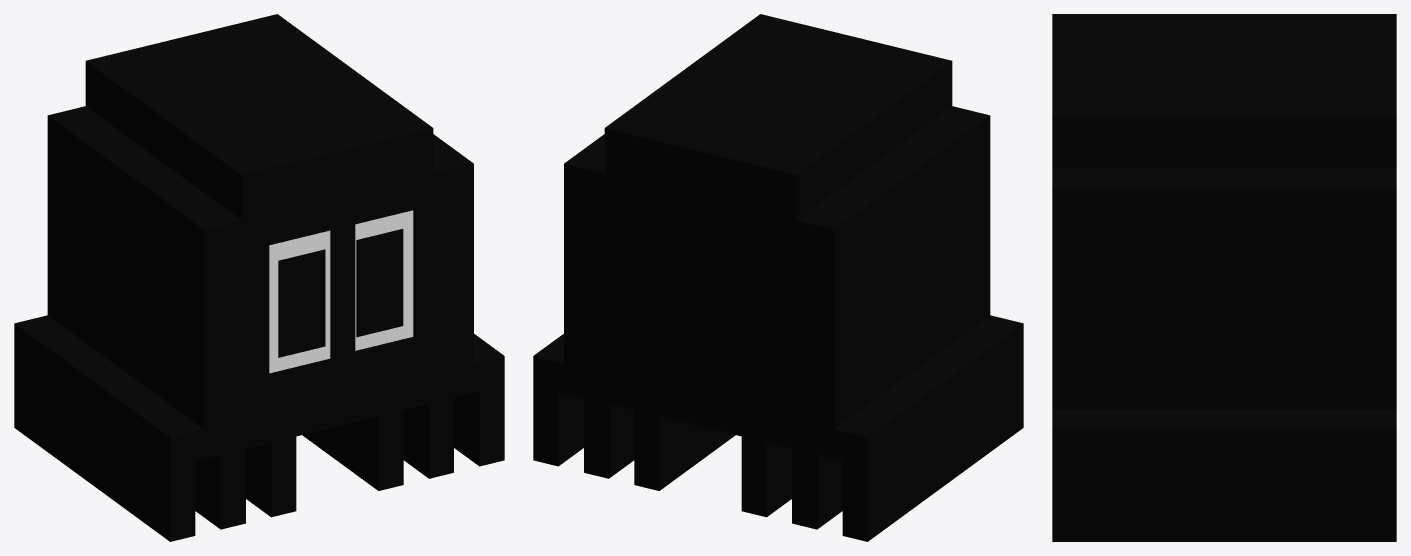
The model's file is spider.obj.
3 views of the same model, side by side, from view 1: azimuth 30°, elevation 25°; view 2: azimuth 150°, elevation 25°; view 3: azimuth 270°, elevation 25° (orthographic). The views are drawn at different scales.
Parts seen in each view (by area): view 1: pCube7, pasted__pCube4 group3, pCube4, pasted__polySurface2 group4, pasted__polySurface2 group5; view 2: pCube7; view 3: pCube7.
Part boxes in pixels (box(x1,y1,x2,y2)): pCube7: box(14, 14, 504, 541); pasted__pCube4 group3: box(356, 229, 403, 337); pCube4: box(278, 249, 325, 357); pasted__polySurface2 group4: box(269, 230, 330, 373); pasted__polySurface2 group5: box(355, 210, 413, 350); pCube7: box(533, 14, 1023, 541); pCube7: box(1052, 14, 1396, 541).
Bounding box in the file's own units: 1.24 × 1.24 × 1.
3 materials, 3 textured.
